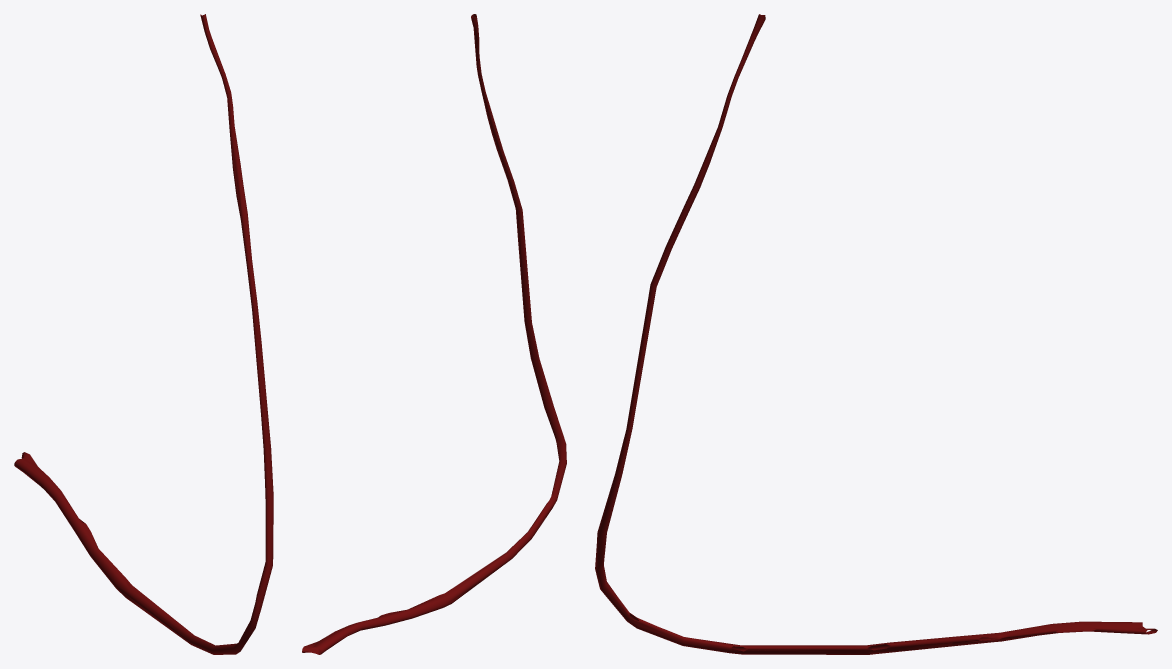
The model's file is L arteria thoracica interna.fbx.
3 views of the same model, side by side, from view 1: azimuth 30°, elevation 25°; view 2: azimuth 150°, elevation 25°; view 3: azimuth 270°, elevation 25° (orthographic). The views are drawn at different scales.
Parts seen in each view (by area): view 1: L arteria thoracica interna, L arteria thoracica interna low; view 2: L arteria thoracica interna, L arteria thoracica interna low; view 3: L arteria thoracica interna, L arteria thoracica interna low.
Boxes of the visible parts, x1,y1,x2,y2 form: L arteria thoracica interna: [14, 14, 273, 654]; L arteria thoracica interna low: [17, 14, 273, 652]; L arteria thoracica interna: [302, 14, 566, 654]; L arteria thoracica interna low: [304, 14, 564, 654]; L arteria thoracica interna: [595, 14, 1157, 654]; L arteria thoracica interna low: [595, 15, 1157, 654].
Bounding box in the file's own units: 2.54 × 35.35 × 27.62.
